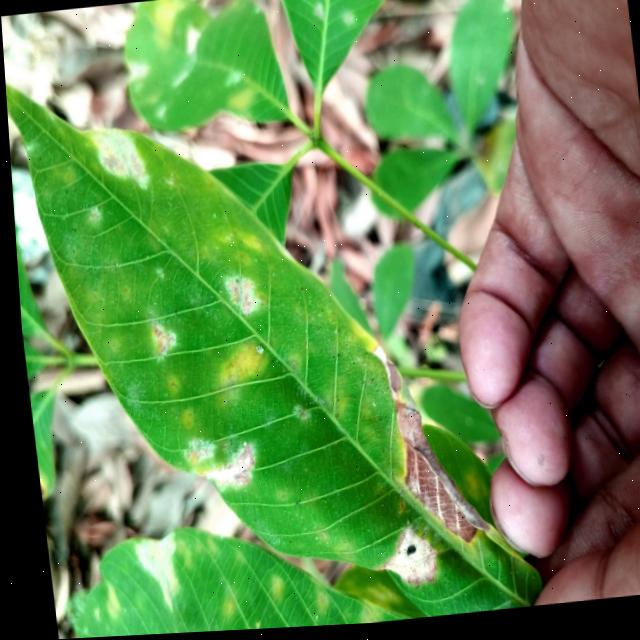Leaf-Blight: (389, 400, 484, 552), (363, 529, 433, 594), (368, 348, 400, 407)
